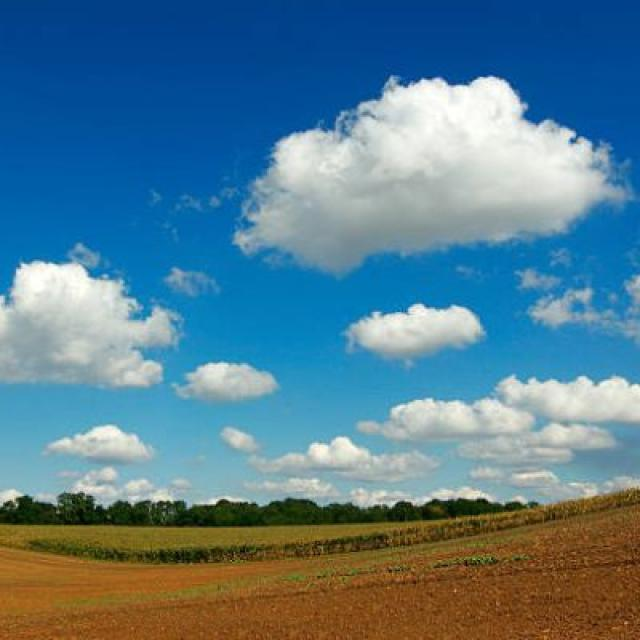Cu: (11, 81, 640, 441)
